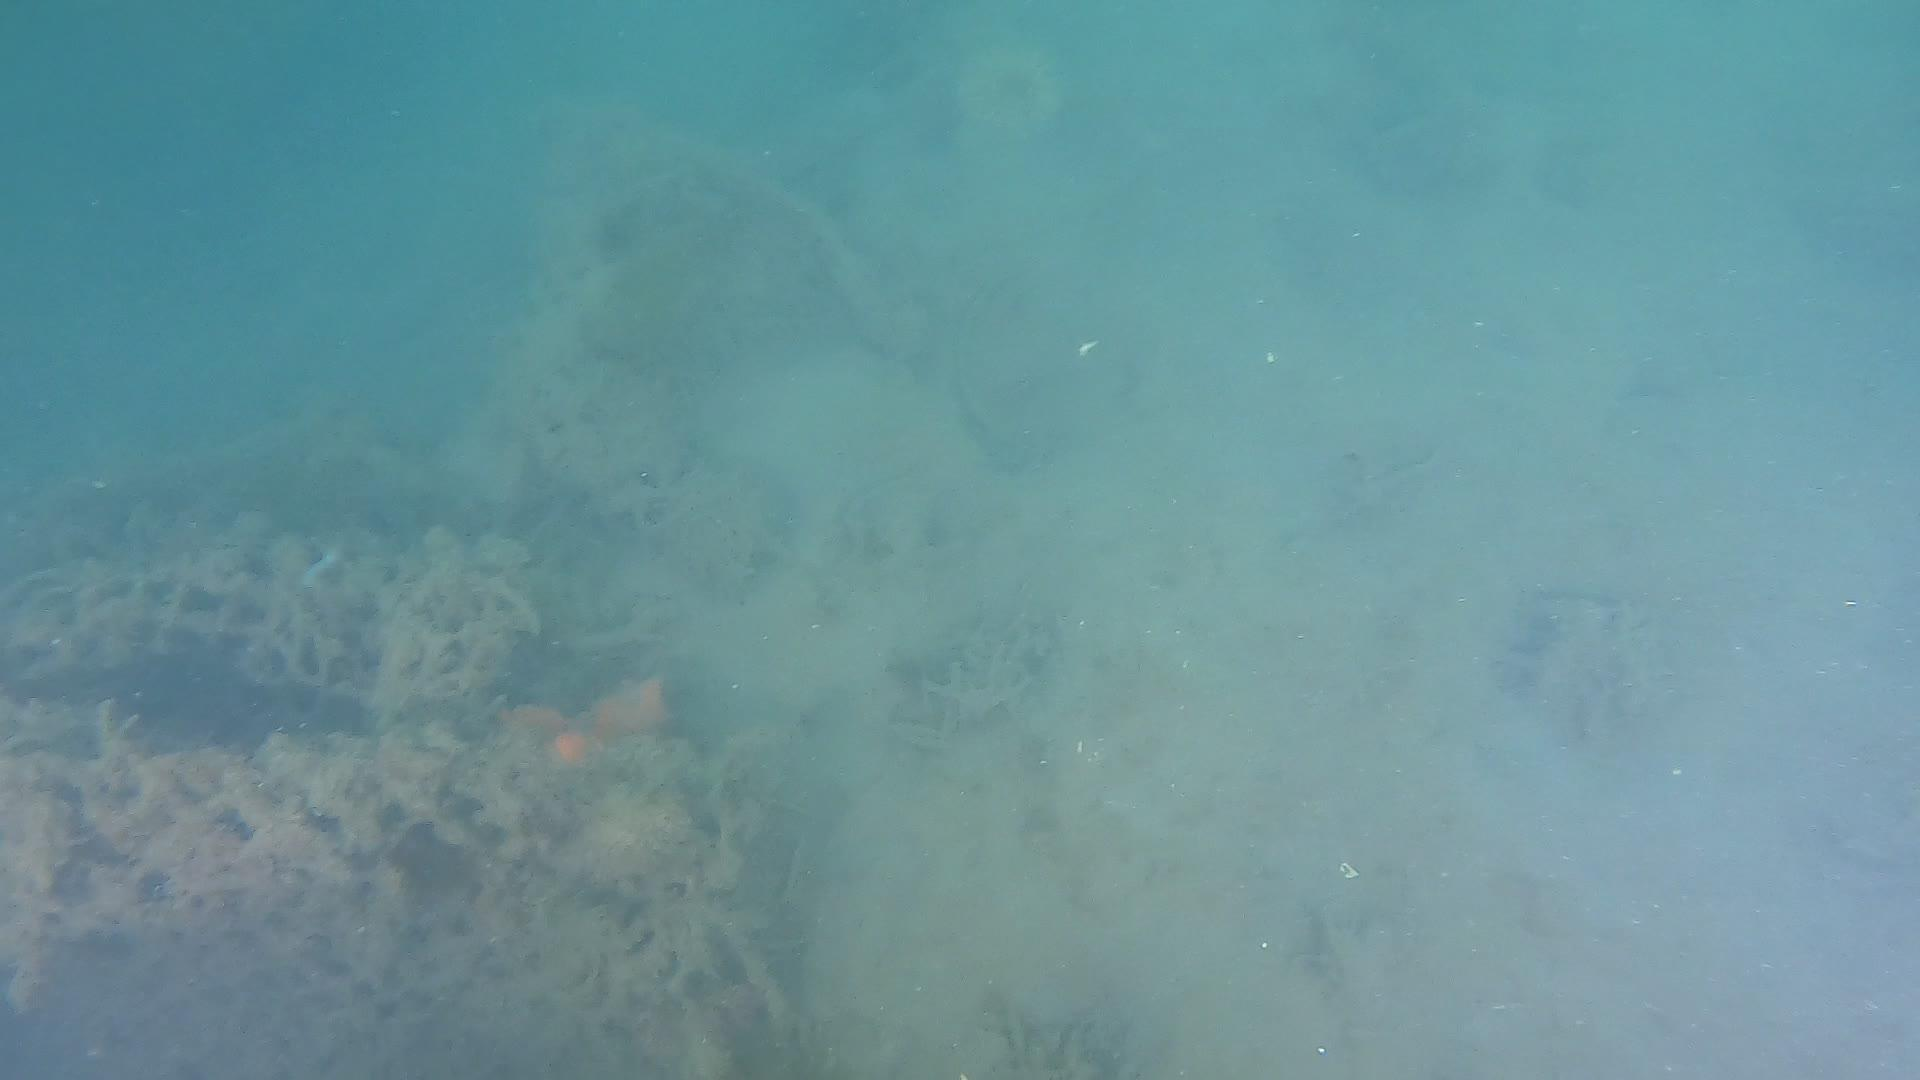fish net: (0, 520, 939, 1059)
